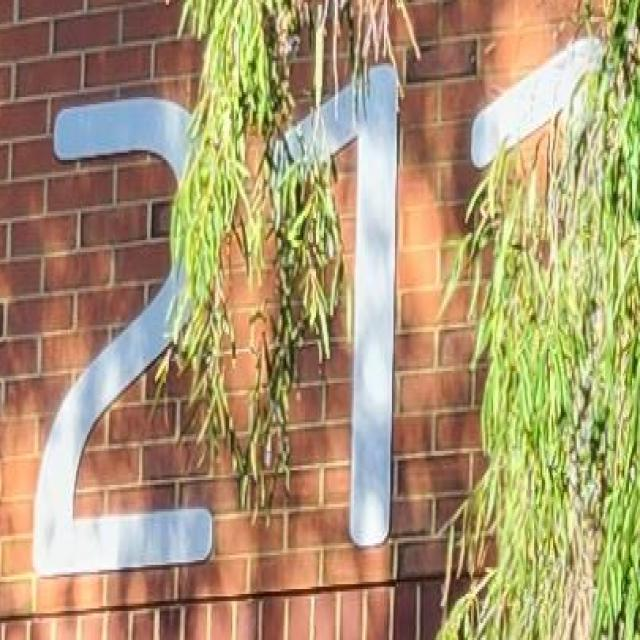character: (28, 87, 232, 582), (463, 30, 626, 547), (263, 66, 402, 556)
